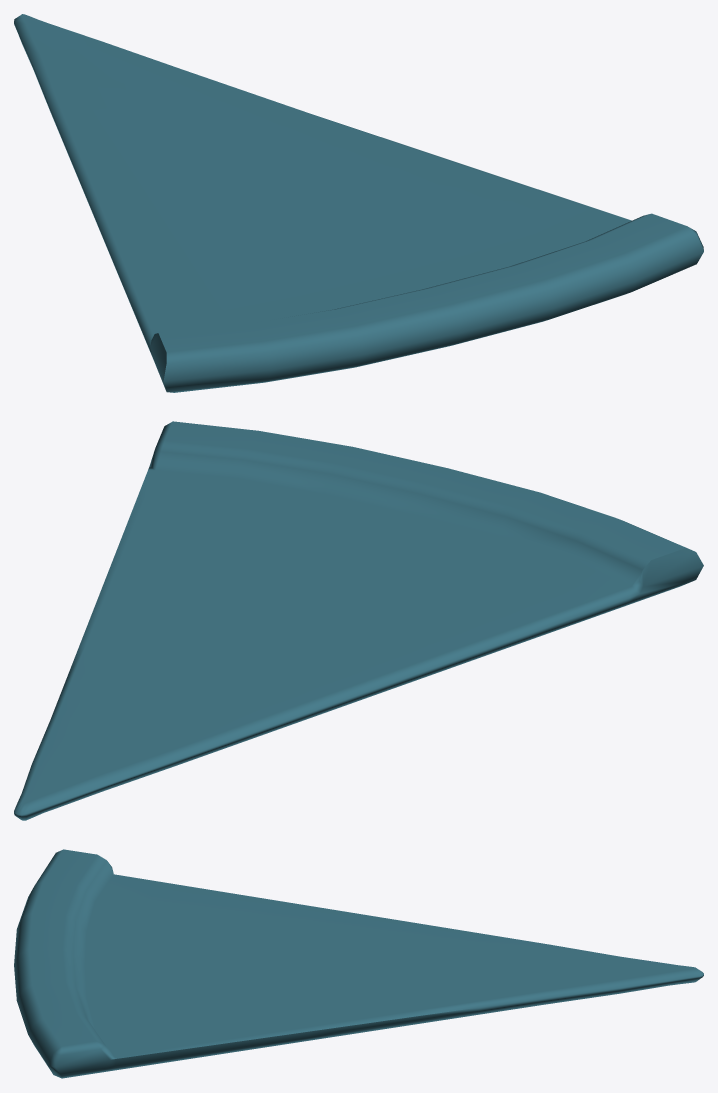
File: SM_SmallTrashkit_Pizza_001.fbx
3 renders of one model, top to bottom at view 1: azimuth 30°, elevation 25°; view 2: azimuth 150°, elevation 25°; view 3: azimuth 270°, elevation 25°, orthographic. The views are drawn at different scales.
Visible parts, largest first — view 1: SM_SmallTrashkit_Pizza_001; view 2: SM_SmallTrashkit_Pizza_001; view 3: SM_SmallTrashkit_Pizza_001.
Boxes of the visible parts, x1=… form: SM_SmallTrashkit_Pizza_001: x1=14, y1=14, x2=703, y2=392; SM_SmallTrashkit_Pizza_001: x1=14, y1=421, x2=703, y2=820; SM_SmallTrashkit_Pizza_001: x1=14, y1=849, x2=703, y2=1078.
Bounding box in the file's own units: 16.3 × 1.19 × 23.13.
